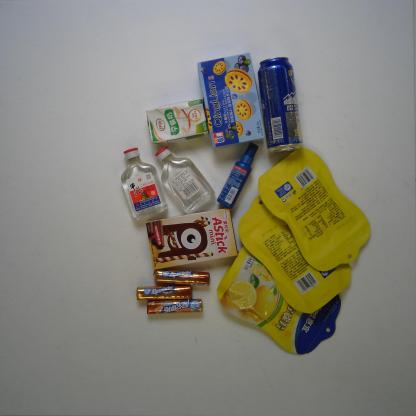Alcohol: (257, 54, 304, 152), (154, 147, 216, 216), (118, 147, 169, 223)
Candy: (153, 268, 213, 286), (137, 283, 194, 301), (147, 298, 204, 316)
Dessert: (195, 52, 264, 148), (144, 208, 238, 272)
Dried Fruit: (255, 145, 372, 270), (239, 188, 355, 314), (215, 243, 342, 357)
Milk: (144, 96, 209, 143)
Personal Hygiene: (216, 140, 260, 209)
